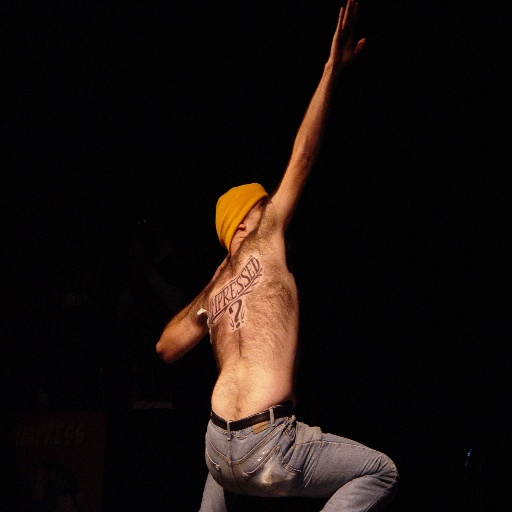hand: (317, 8, 370, 80), (212, 252, 229, 278)
